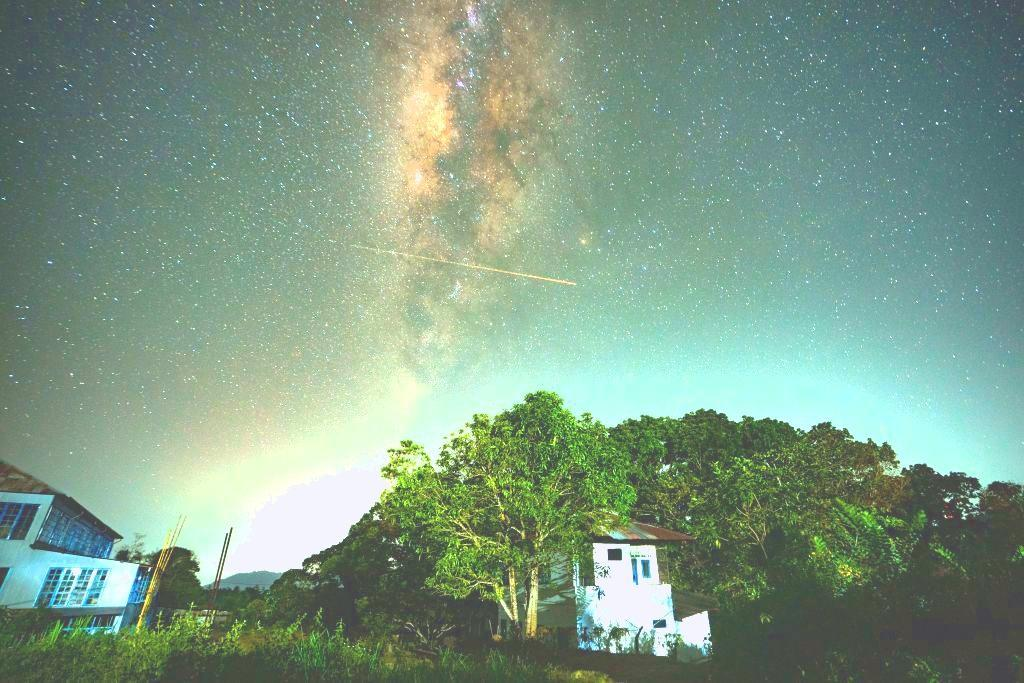meteorite: (441, 256, 587, 293)
